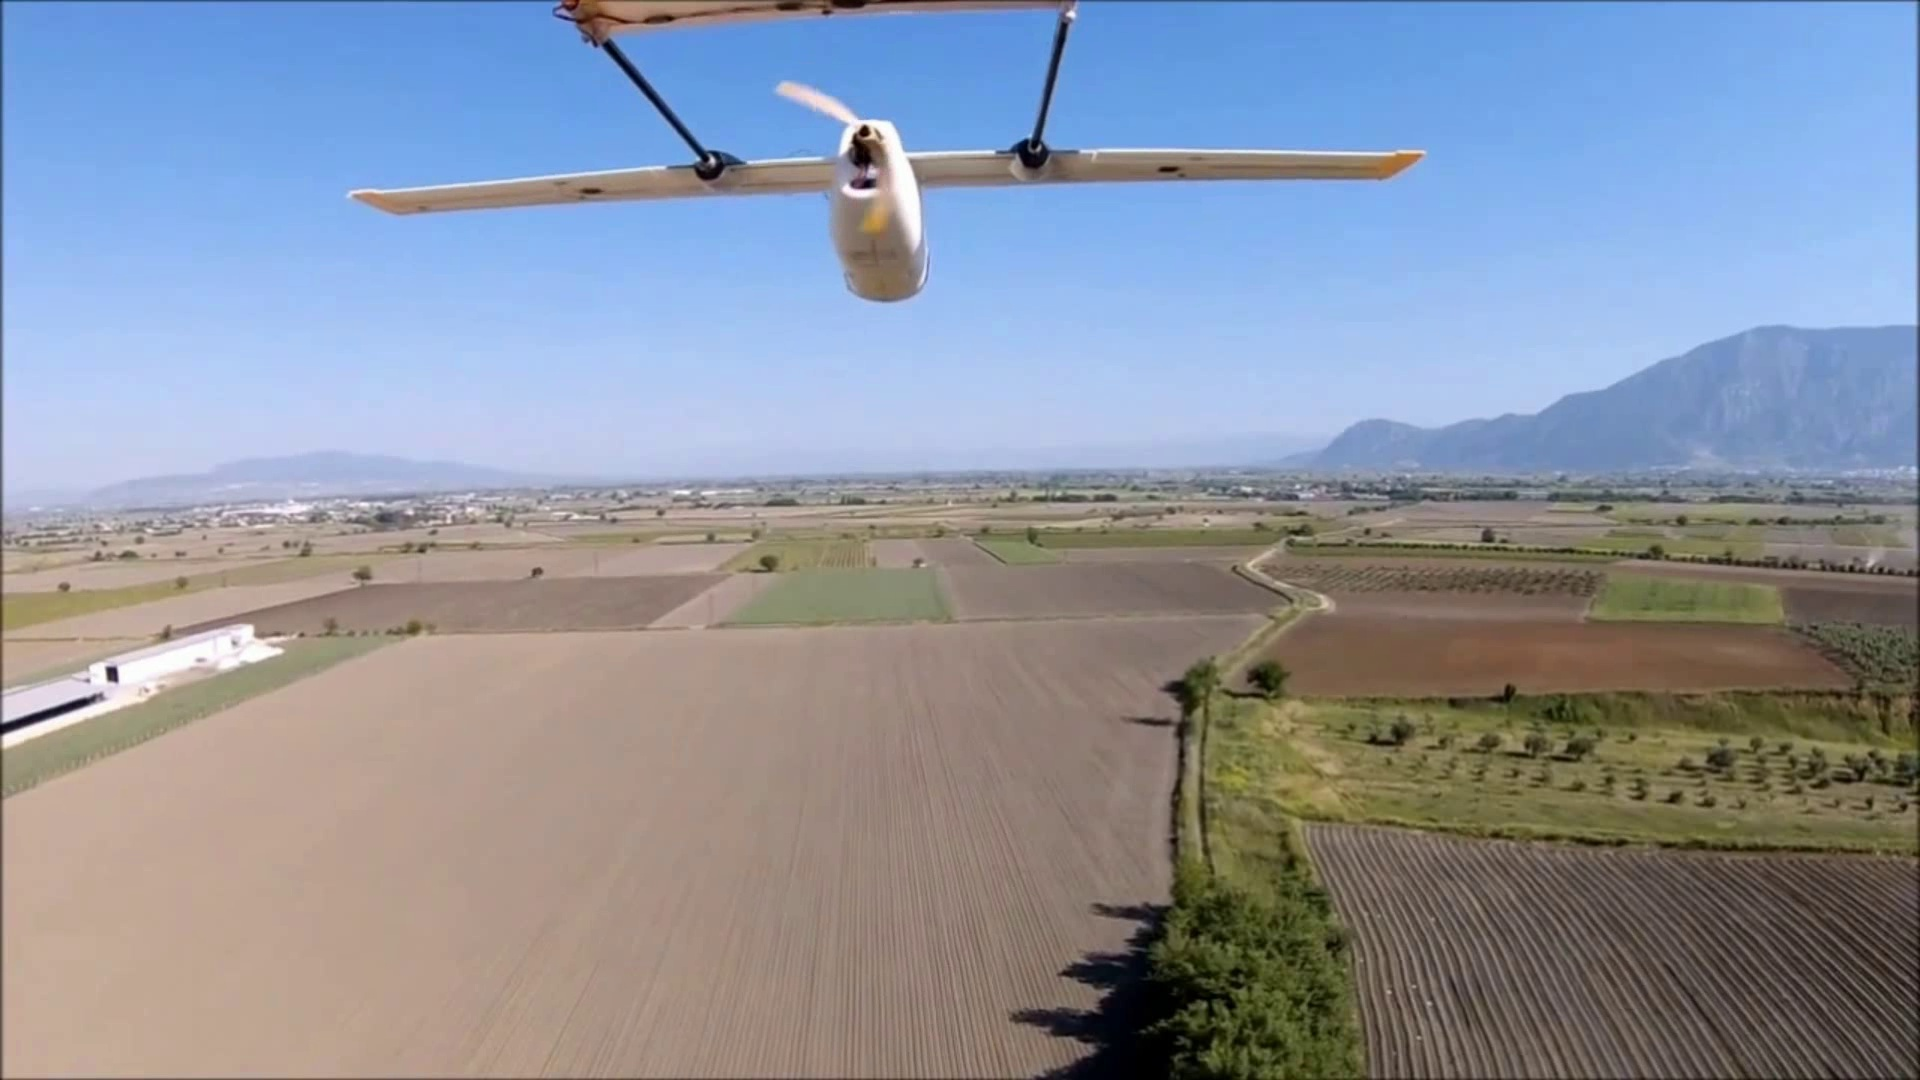airplane: (347, 4, 1422, 301)
